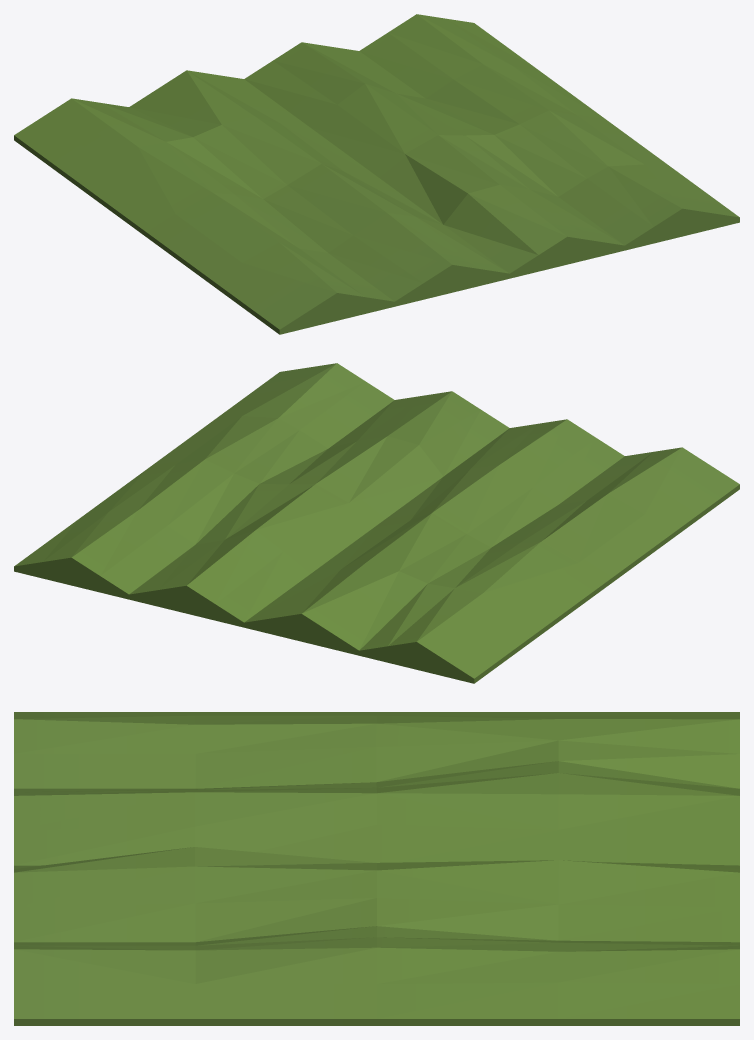
File: Mud_03.fbx
3 renders of one model, top to bottom at view 1: azimuth 30°, elevation 25°; view 2: azimuth 150°, elevation 25°; view 3: azimuth 270°, elevation 25°, orthographic. The views are drawn at different scales.
Visible parts, largest first — view 1: Mud_03; view 2: Mud_03; view 3: Mud_03.
Boxes of the visible parts, box(x1,y1,x2,y2) form: Mud_03: box(14, 14, 739, 334); Mud_03: box(14, 363, 739, 683); Mud_03: box(14, 712, 739, 1025).
Bounding box in the file's own units: 4 × 0.2962 × 4.
